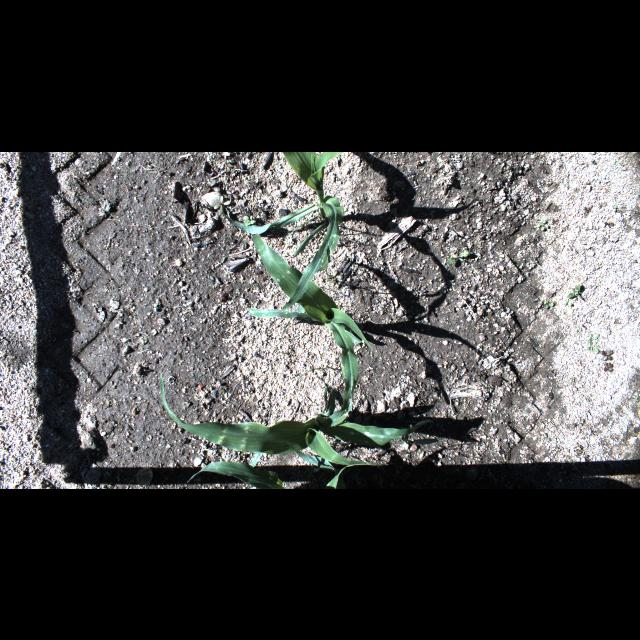crop: (160, 370, 444, 470), (248, 226, 372, 414), (223, 152, 345, 310), (294, 448, 382, 488), (188, 462, 288, 488)
weed: (287, 206, 329, 238), (446, 249, 468, 265), (213, 195, 230, 213), (566, 284, 584, 300), (300, 367, 326, 377), (327, 275, 343, 291), (242, 214, 256, 226), (587, 341, 599, 354), (536, 220, 550, 230), (602, 350, 612, 360), (604, 361, 614, 371), (588, 332, 600, 340), (544, 300, 554, 308), (562, 300, 572, 306), (576, 457, 586, 463), (613, 204, 617, 210)
